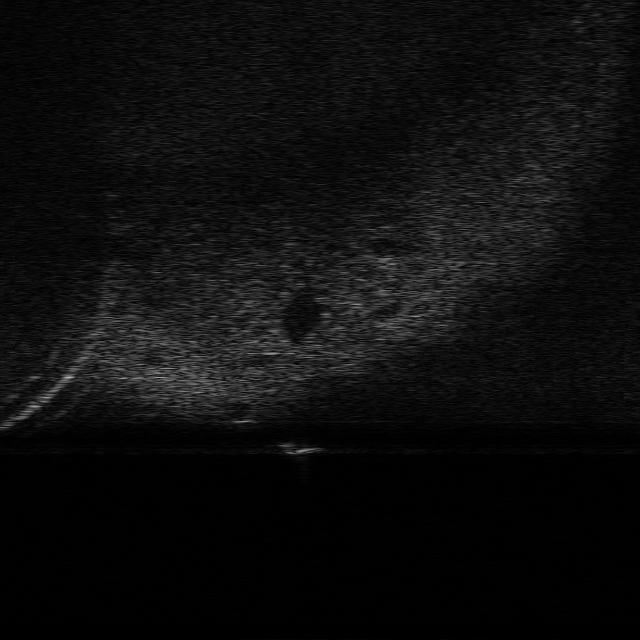cube: (276, 441, 325, 458)
